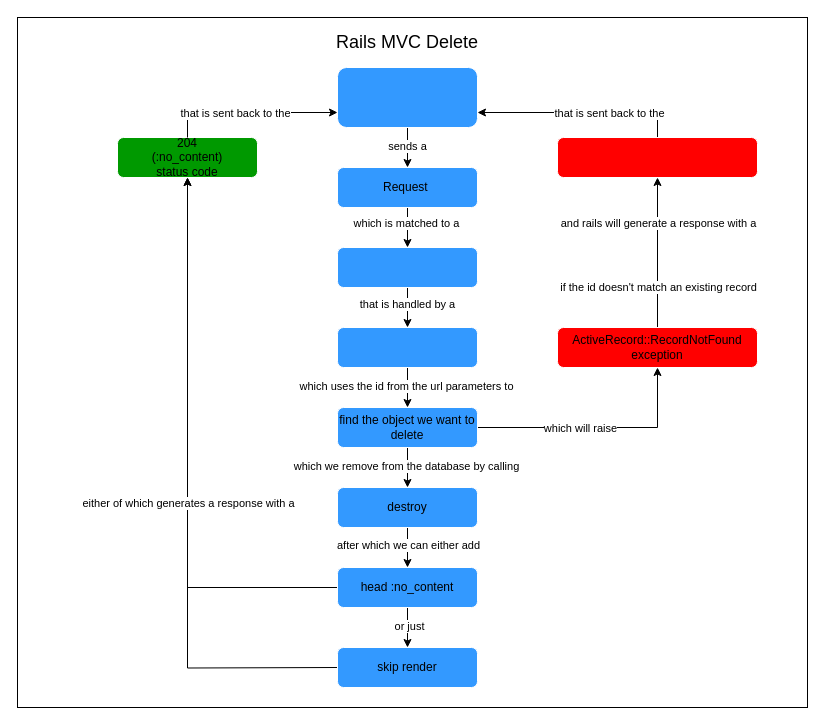
The diagram is 825 pixels wide and 725 high, and some of its shapes have lost their labels. Each missing label, with the centre of its shape:
404 (:not_found) status code: the point at 657,157
Client (Browser): the point at 407,97
Controller Action: the point at 407,347
Route: the point at 407,267
